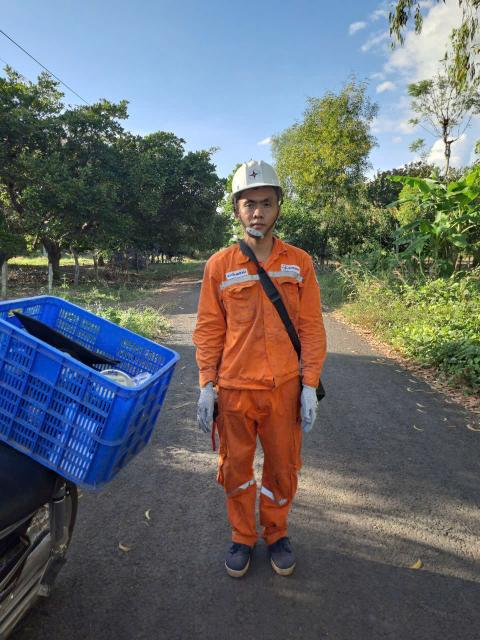gloves: (184, 377, 227, 437), (284, 385, 319, 436)
helmet: (228, 151, 292, 211)
shoes: (209, 532, 251, 585), (267, 527, 298, 575)
